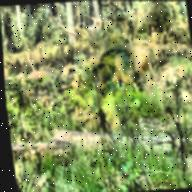boar: (81, 37, 163, 100)
